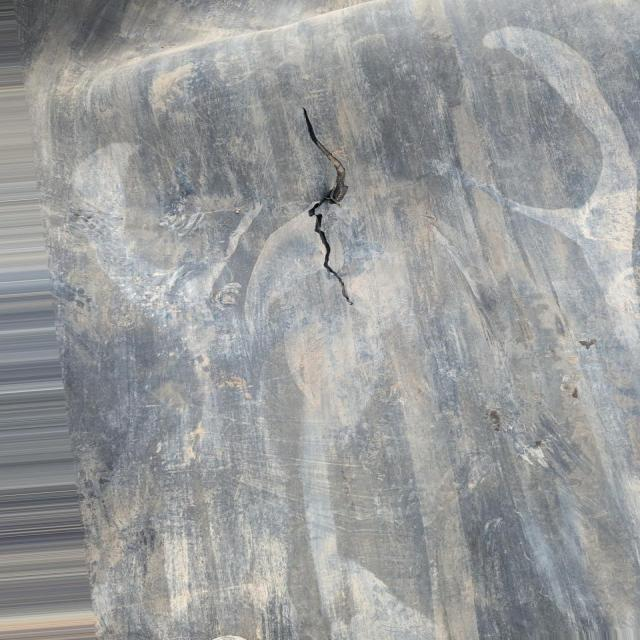Tear: (304, 112, 356, 306)
